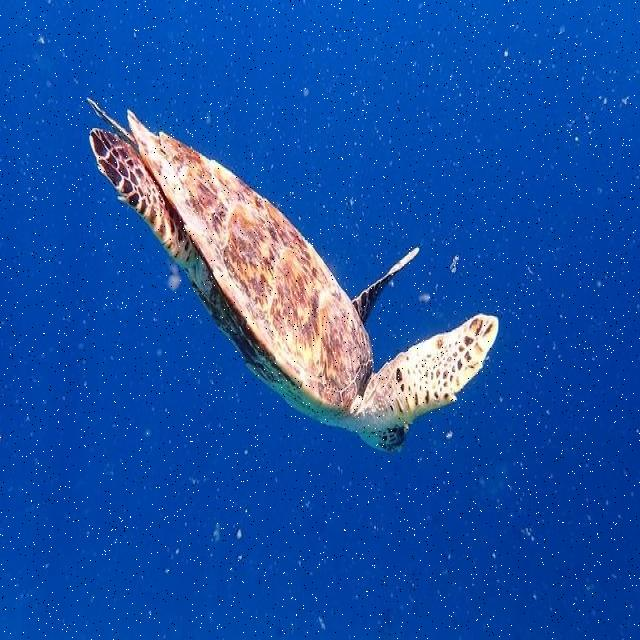fish: (87, 100, 500, 450)
